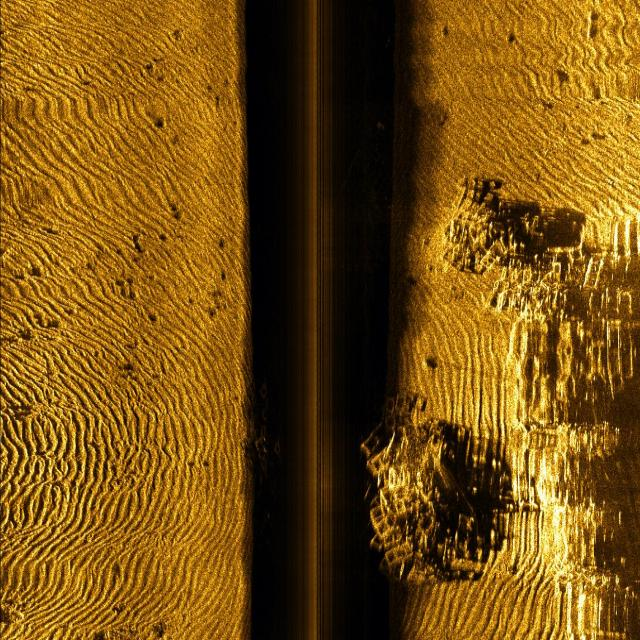artificial reef: (361, 380, 477, 581), (443, 154, 567, 326), (256, 356, 287, 494)
